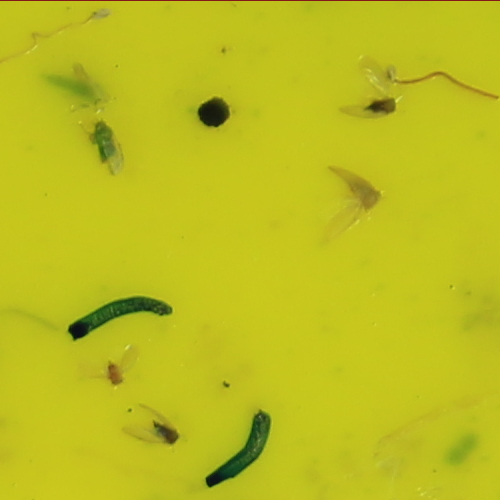Platyobria: (343, 174, 381, 213)
psylla: (151, 420, 178, 447), (363, 98, 397, 112)
